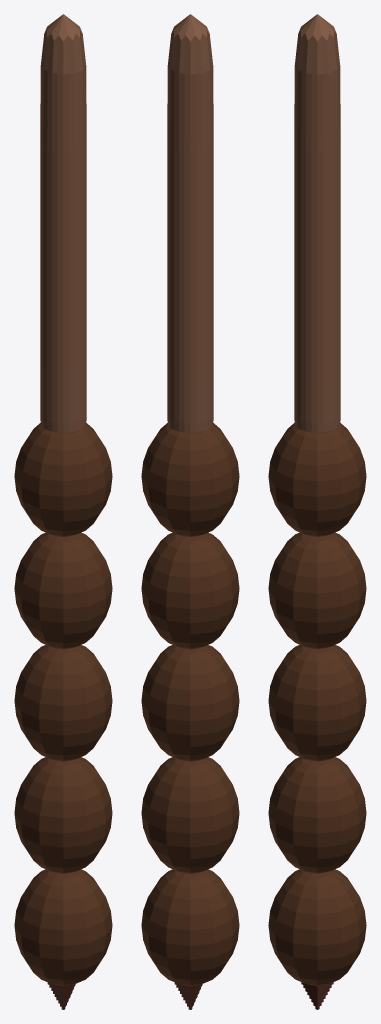
Rendered from Wand 214.glb.
The picture shows the model from 3 angles, left to right: view 1: azimuth 30°, elevation 25°; view 2: azimuth 210°, elevation 25°; view 3: azimuth 270°, elevation 25°; orthographic projection.
Visible parts, largest first — view 1: GeneratedWand; view 2: GeneratedWand; view 3: GeneratedWand.
Boxes of the visible parts, x1,y1,x2,y2 form: GeneratedWand: [14, 14, 112, 1009]; GeneratedWand: [141, 14, 239, 1009]; GeneratedWand: [268, 14, 366, 1009].
Size of the model in its own units: 0.0447 by 0.5028 by 0.0449.
